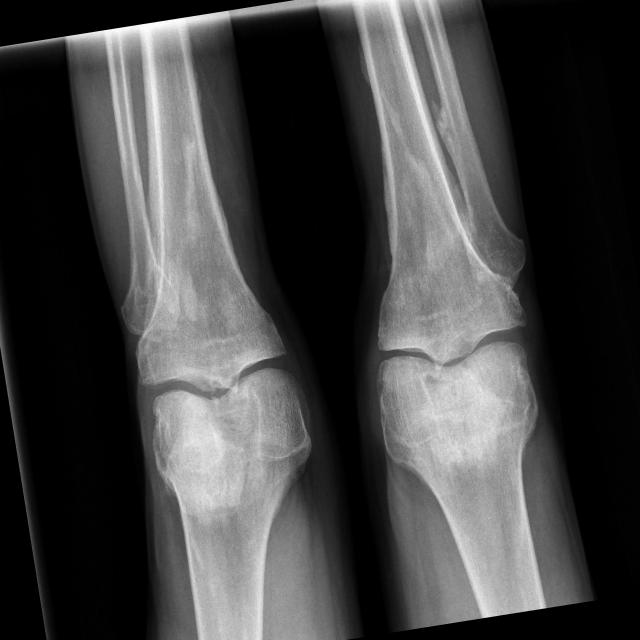Knee: (354, 264, 544, 450), (126, 298, 316, 481)
